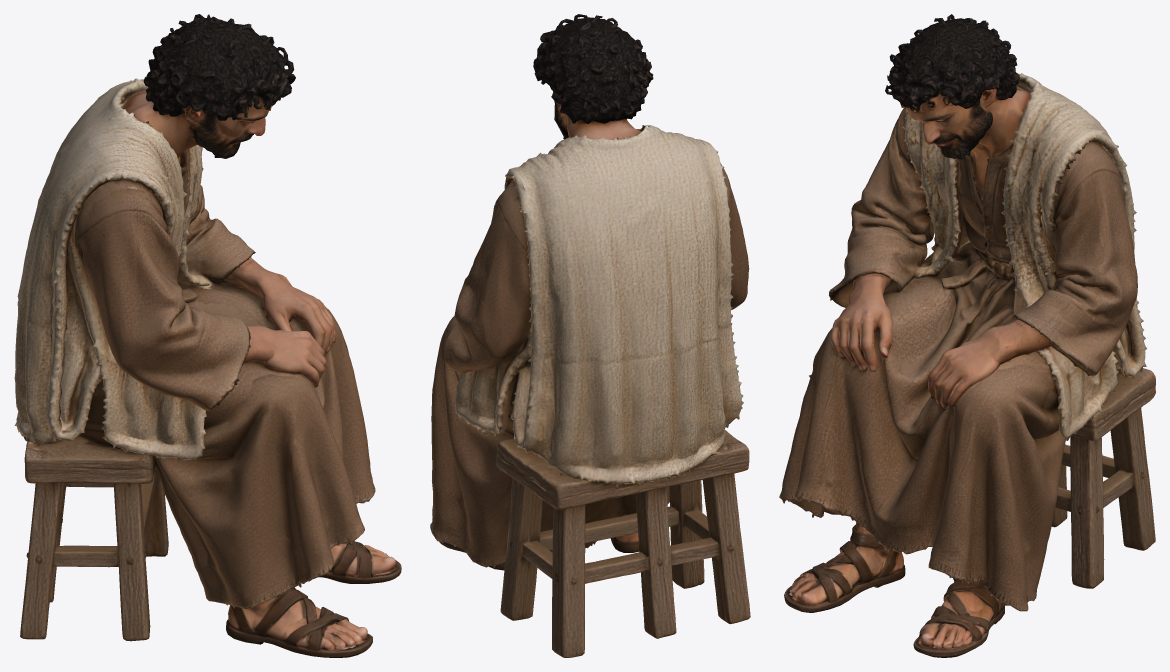
Rendered from joseph-seated-tripo-source.glb.
3 views of the same model, side by side, from view 1: azimuth 30°, elevation 25°; view 2: azimuth 150°, elevation 25°; view 3: azimuth 270°, elevation 25° (orthographic). The views are drawn at different scales.
Parts seen in each view (by area): view 1: tripo_node_d9757daa-69cc-493a-ba0f-900e31c1b382; view 2: tripo_node_d9757daa-69cc-493a-ba0f-900e31c1b382; view 3: tripo_node_d9757daa-69cc-493a-ba0f-900e31c1b382.
Part boxes in pixels (left/top/right/bottom): tripo_node_d9757daa-69cc-493a-ba0f-900e31c1b382: left=14, top=14, right=401, bottom=657; tripo_node_d9757daa-69cc-493a-ba0f-900e31c1b382: left=430, top=14, right=750, bottom=657; tripo_node_d9757daa-69cc-493a-ba0f-900e31c1b382: left=779, top=14, right=1155, bottom=657.
Bounding box in the file's own units: 0.6356 × 1 × 0.6123.
Materials: 1 (1 with a texture image).
